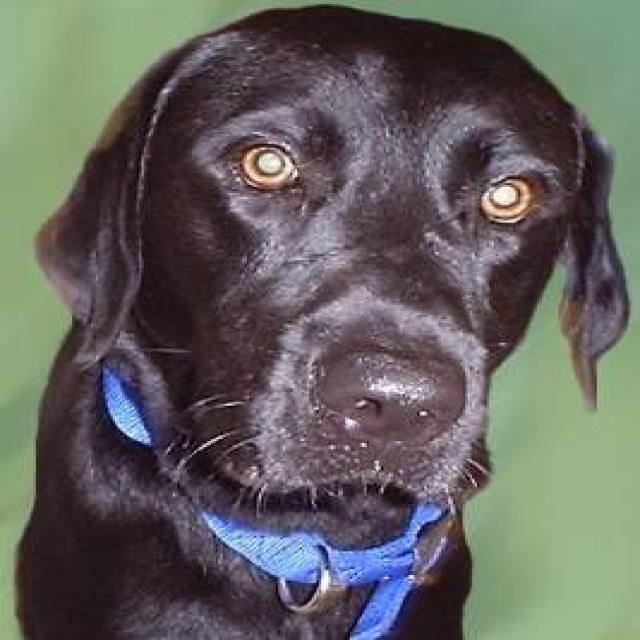dog: (12, 0, 630, 638)
